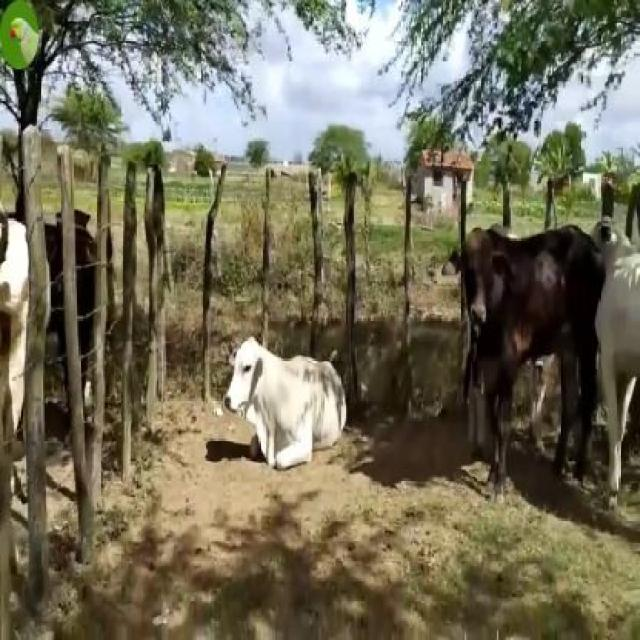Cow: (442, 226, 592, 503), (225, 339, 346, 463)
